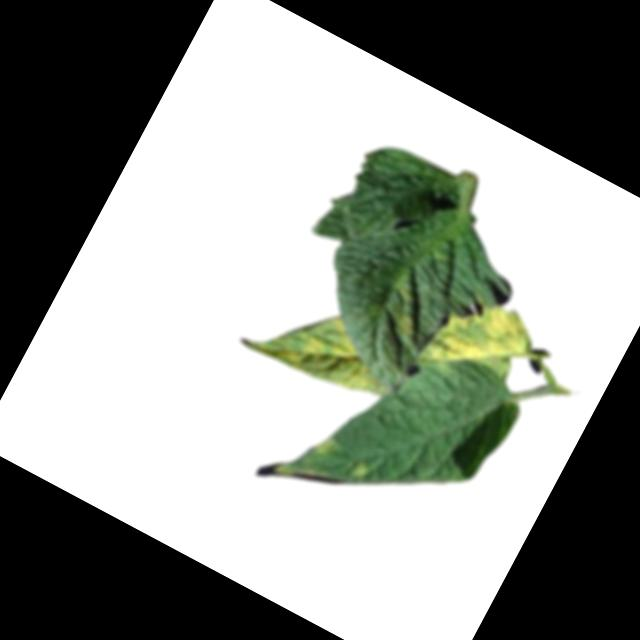Leaf_Mold: (239, 280, 403, 412), (423, 283, 542, 403), (387, 304, 426, 340), (345, 454, 377, 484), (312, 430, 341, 461)
